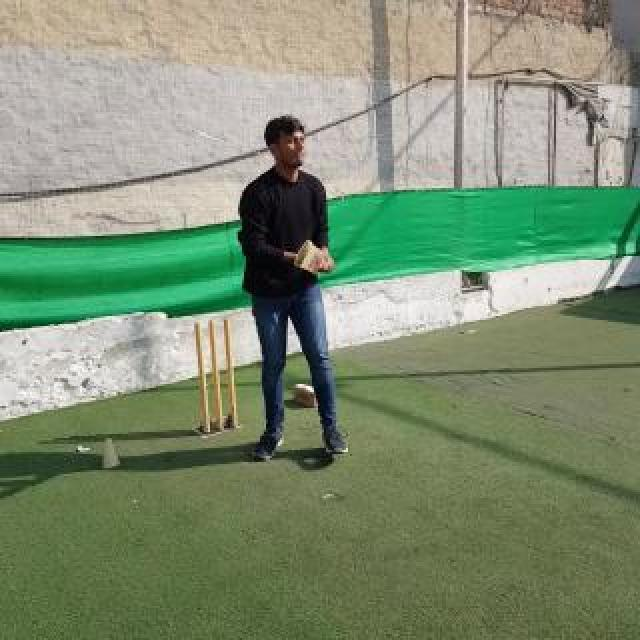bat: (296, 240, 328, 274)
